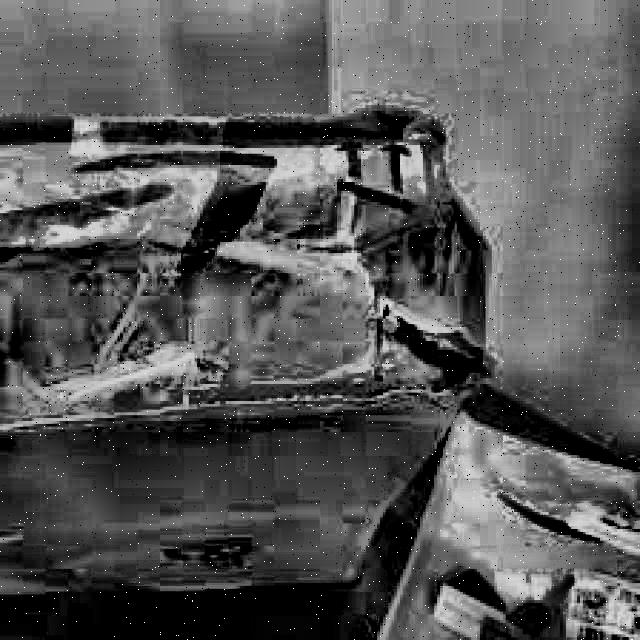box: (0, 84, 515, 616)
hole: (375, 305, 495, 419)
